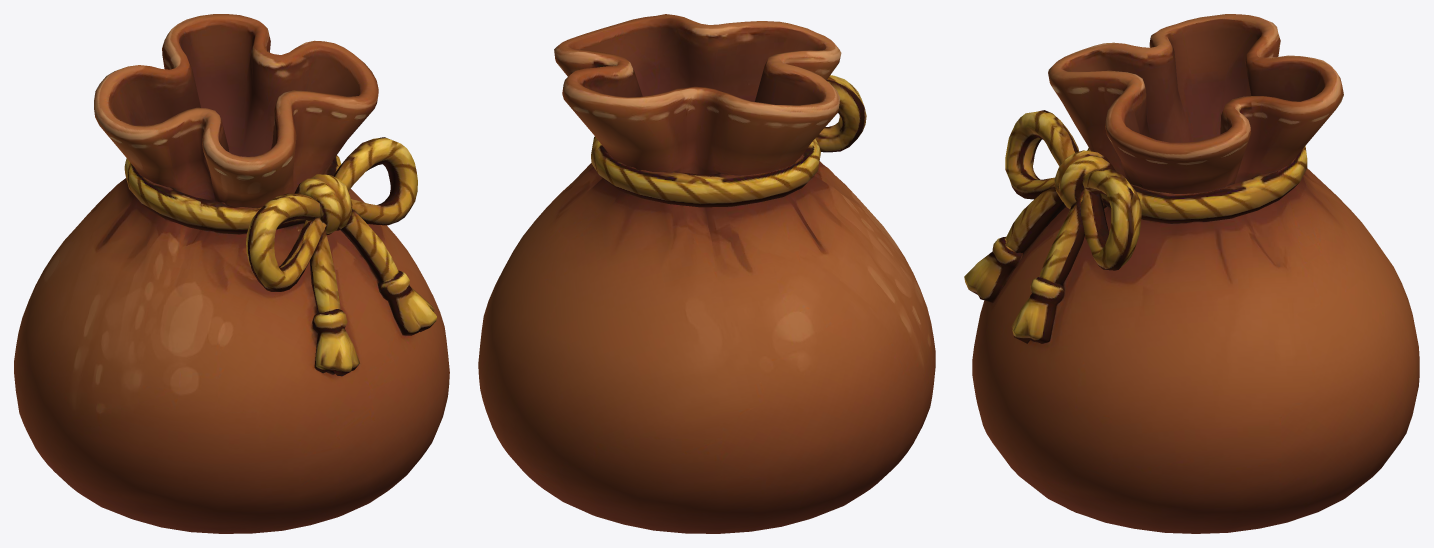
Rendered from CoinPoket.glb.
3 views of the same model, side by side, from view 1: azimuth 30°, elevation 25°; view 2: azimuth 150°, elevation 25°; view 3: azimuth 270°, elevation 25° (orthographic). The views are drawn at different scales.
Parts seen in each view (by area): view 1: tripo_node_69189376-f027-4c88-abcd-47ec264a5cc5; view 2: tripo_node_69189376-f027-4c88-abcd-47ec264a5cc5; view 3: tripo_node_69189376-f027-4c88-abcd-47ec264a5cc5.
Boxes of the visible parts, x1,y1,x2,y2 form: tripo_node_69189376-f027-4c88-abcd-47ec264a5cc5: [14, 14, 449, 533]; tripo_node_69189376-f027-4c88-abcd-47ec264a5cc5: [478, 14, 935, 533]; tripo_node_69189376-f027-4c88-abcd-47ec264a5cc5: [964, 14, 1419, 533].
Bounding box in the file's own units: 0.9863 × 0.9863 × 0.998.
1 material, 1 textured.
